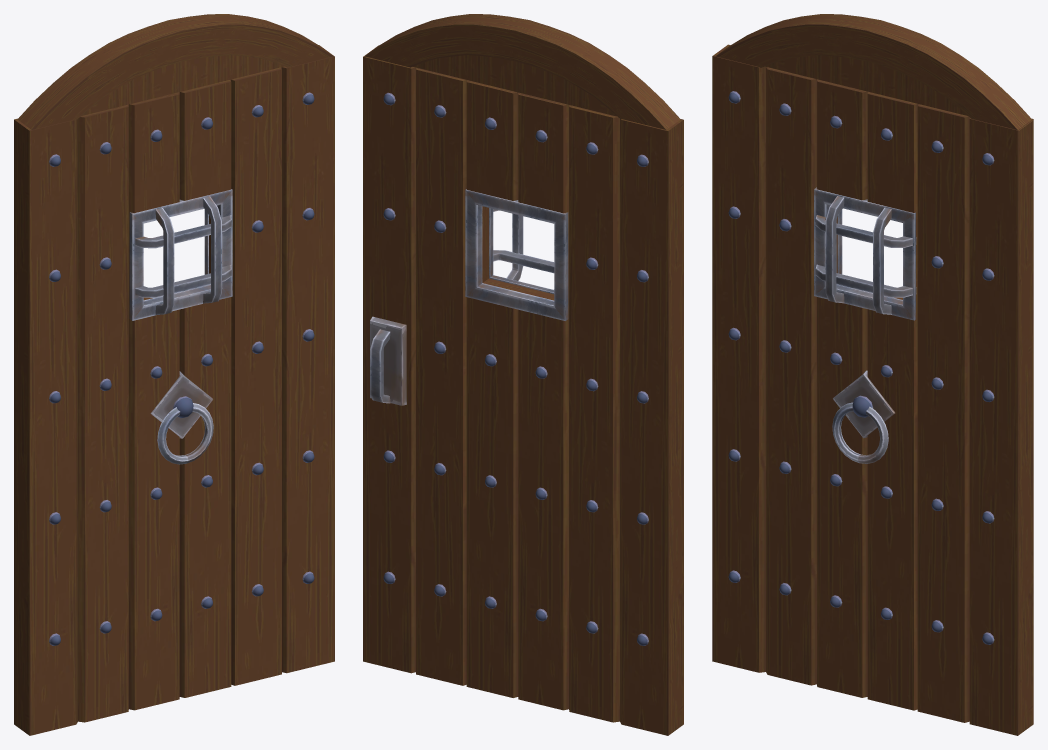
The model's file is Door_2_Round.gltf.
3 renders of one model, left to right at view 1: azimuth 30°, elevation 25°; view 2: azimuth 150°, elevation 25°; view 3: azimuth 330°, elevation 25°, orthographic.
Visible parts, largest first — view 1: Door_2_Round; view 2: Door_2_Round; view 3: Door_2_Round.
Boxes of the visible parts, x1,y1,x2,y2 form: Door_2_Round: (14,14,334,735); Door_2_Round: (363,14,683,735); Door_2_Round: (712,14,1033,735).
Bounding box in the file's own units: 1.12 × 2.33 × 0.2609.
Materials: 2 (2 with a texture image).
